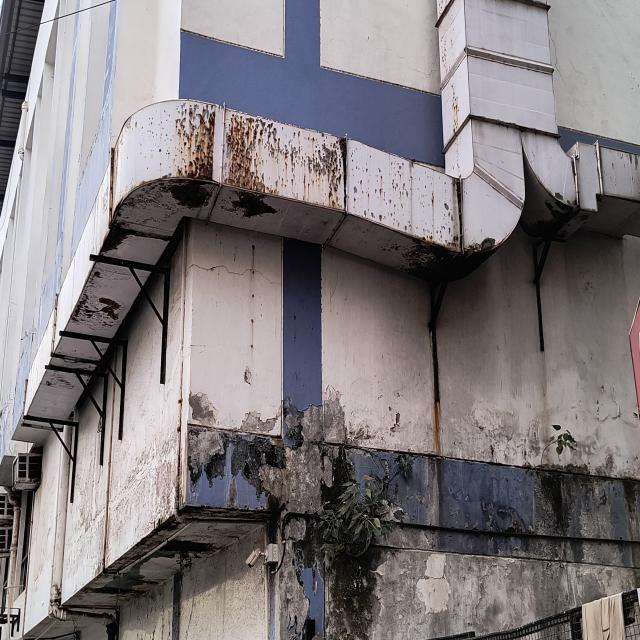stain_mould: (23, 99, 525, 424), (81, 420, 640, 640), (559, 146, 640, 239)
